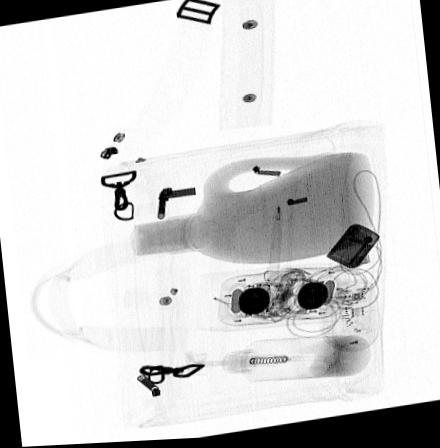Lighter: (324, 227, 380, 272)
